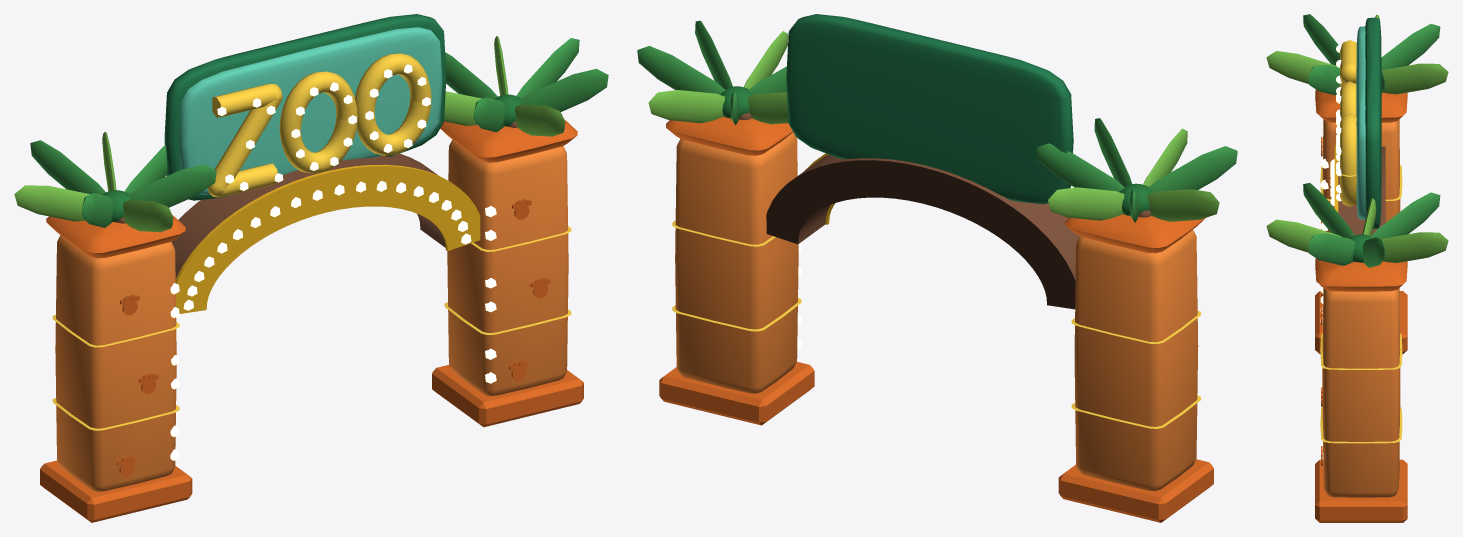
File: portal_zoologico.glb
3 views of the same model, side by side, from view 1: azimuth 30°, elevation 25°; view 2: azimuth 150°, elevation 25°; view 3: azimuth 270°, elevation 25° (orthographic). The views are drawn at different scales.
Parts seen in each view (by area): view 1: portal_zoologico, letreiro_zoo, luzes_arco_a, luzes_arco_b; view 2: portal_zoologico; view 3: portal_zoologico, letreiro_zoo, luzes_arco_b, luzes_arco_a.
Part boxes in pixels (x1,y1,x2,y2): portal_zoologico: (14, 14, 608, 522); letreiro_zoo: (217, 64, 430, 190); luzes_arco_a: (170, 181, 496, 460); luzes_arco_b: (170, 180, 496, 436); portal_zoologico: (637, 14, 1237, 522); portal_zoologico: (1266, 14, 1448, 522); letreiro_zoo: (1336, 45, 1341, 201); luzes_arco_b: (1320, 158, 1334, 364); luzes_arco_a: (1320, 159, 1334, 450).
Bounding box in the file's own units: 10.01 × 6.77 × 3.15.
2 materials, 1 textured.
